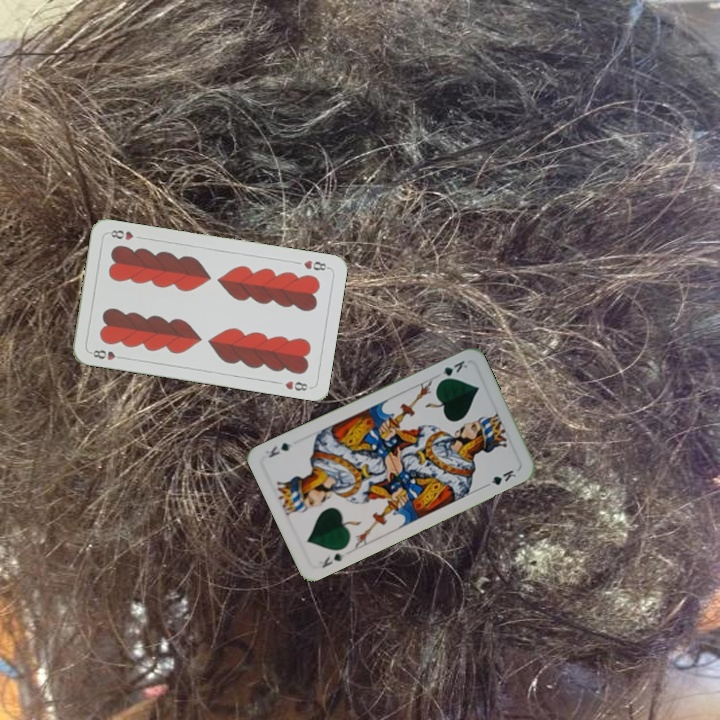GK: (435, 356, 470, 385), (315, 547, 351, 571)
H8: (86, 346, 127, 363), (300, 256, 332, 273)
